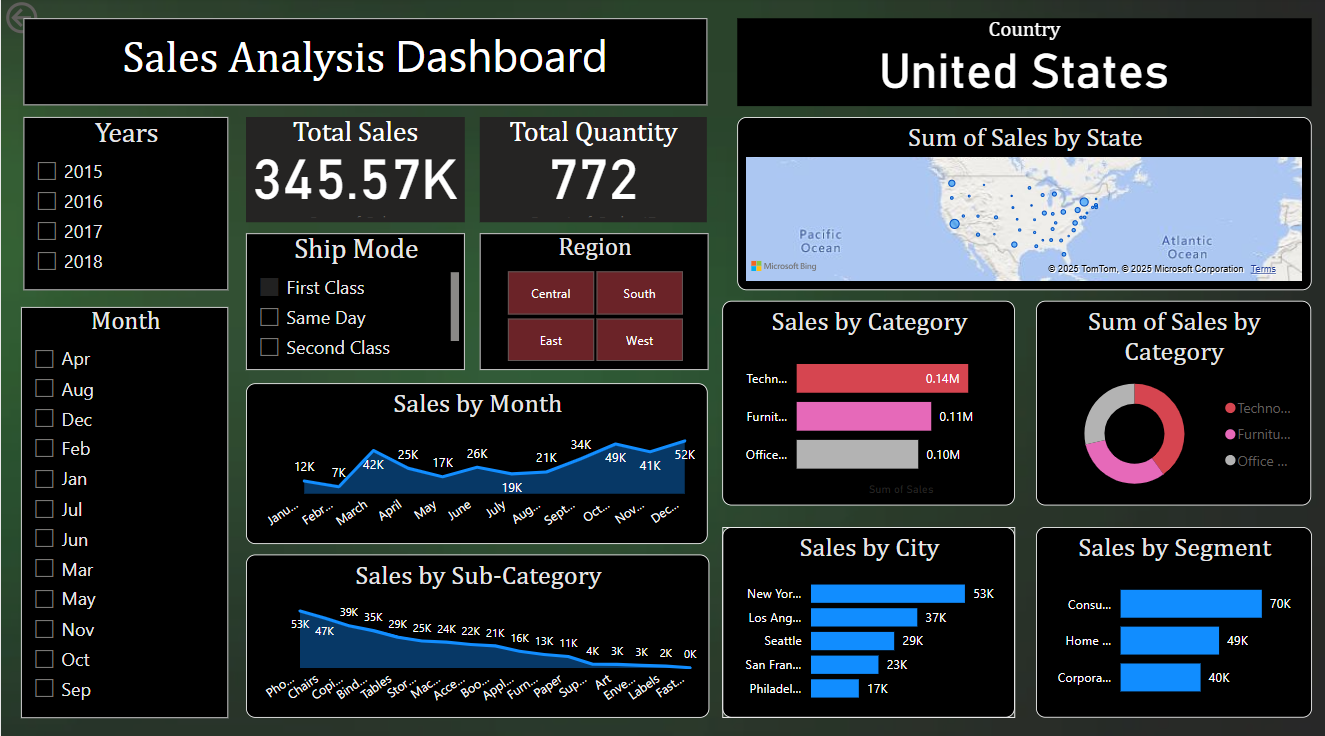

This screenshot's page, from the dashboard's own definition file:
{"tool":"powerbi","page":{"name":"Page 1","canvas":[1280,720],"ordinal":0},"visuals":[{"type":"clusteredBarChart","title":"Sales by Category","fields":{"Category":["T8_Sales_Data.Category"],"Y":["Sum(T8_Sales_Data.Sales)"]},"box":[695.7,293.7,282.7,197.6],"z":0},{"type":"slicer","title":"Years","fields":{"Values":["T8_Sales_Data.Year"]},"box":[22,115.3,197.6,167.4],"z":1000},{"type":"slicer","title":"Month","fields":{"Values":["T8_Sales_Data.Month"]},"box":[19.2,299.1,200.3,396.6],"z":2000},{"type":"slicer","title":"Ship Mode","fields":{"Values":["T8_Sales_Data.Ship Mode"]},"box":[236,227.8,211.3,131.7],"z":3000},{"type":"slicer","title":"Region","fields":{"Values":["T8_Sales_Data.Region"]},"box":[462.4,227.8,220.9,131.7],"z":4000},{"type":"actionButton","box":[0,0,100,40],"z":5000},{"type":"textbox","box":[22,20.6,660,83.7],"z":6000},{"type":"areaChart","title":"Sales by Month","fields":{"Category":["T8_Sales_Data.Order Date.Variation.Date Hierarchy.Month","T8_Sales_Data.Order Date.Variation.Date Hierarchy.Day"],"Y":["Sum(T8_Sales_Data.Sales)"]},"box":[236,373.2,446,155.1],"z":7000},{"type":"donutChart","fields":{"Category":["T8_Sales_Data.Category"],"Y":["Sum(T8_Sales_Data.Sales)"]},"box":[998.9,293.2,265.4,197.9],"z":8000},{"type":"barChart","title":"Sales by City","fields":{"Y":["Sum(T8_Sales_Data.Sales)"],"Category":["T8_Sales_Data.City"]},"box":[695.7,511.8,282.7,183.9],"z":9000},{"type":"map","fields":{"Category":["T8_Sales_Data.State"],"Size":["Sum(T8_Sales_Data.Sales)"]},"box":[710.8,115.3,554.4,167.4],"z":10000},{"type":"card","title":"Total Quantity","fields":{"Values":["Count(T8_Sales_Data.Order ID)"]},"box":[462.4,115.3,219.6,101.5],"z":11000},{"type":"card","title":"Total Sales","fields":{"Values":["Sum(T8_Sales_Data.Sales)"]},"box":[236,115.3,211.3,101.5],"z":11001},{"type":"card","title":"Country","fields":{"Values":["Min(T8_Sales_Data.Country)"]},"box":[710.8,20.6,554.4,85.1],"z":11003},{"type":"areaChart","title":"Sales by Sub-Category","fields":{"Y":["Sum(T8_Sales_Data.Sales)"],"Category":["T8_Sales_Data.Sub-Category"]},"box":[236,537.9,447.3,157.8],"z":11004},{"type":"barChart","title":"Sales by Segment","fields":{"Y":["Sum(T8_Sales_Data.Sales)"],"Category":["T8_Sales_Data.Segment"]},"box":[999,511.8,266.2,183.9],"z":11005}]}

Visuals, with their boxes in screenshot pixels (x1, y1, x2, y2), scaled from the page's 1280x720 canvas onto the 1325x736 screenshot:
"Sales by Category" clusteredBarChart: [left=720, top=300, right=1013, bottom=502]
"Years" slicer: [left=23, top=118, right=227, bottom=289]
"Month" slicer: [left=20, top=306, right=227, bottom=711]
"Ship Mode" slicer: [left=244, top=233, right=463, bottom=367]
"Region" slicer: [left=479, top=233, right=707, bottom=367]
actionButton: [left=0, top=0, right=104, bottom=41]
textbox: [left=23, top=21, right=706, bottom=107]
"Sales by Month" areaChart: [left=244, top=381, right=706, bottom=540]
donutChart - T8_Sales_Data.Category x Sum(T8_Sales_Data.Sales): [left=1034, top=300, right=1309, bottom=502]
"Sales by City" barChart: [left=720, top=523, right=1013, bottom=711]
map - T8_Sales_Data.State x Sum(T8_Sales_Data.Sales): [left=736, top=118, right=1310, bottom=289]
"Total Quantity" card: [left=479, top=118, right=706, bottom=222]
"Total Sales" card: [left=244, top=118, right=463, bottom=222]
"Country" card: [left=736, top=21, right=1310, bottom=108]
"Sales by Sub-Category" areaChart: [left=244, top=550, right=707, bottom=711]
"Sales by Segment" barChart: [left=1034, top=523, right=1310, bottom=711]
